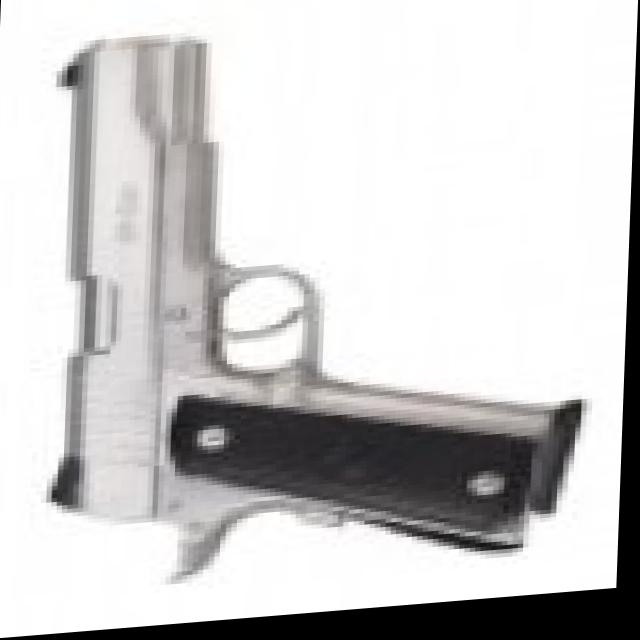handgun: (41, 15, 579, 600)
